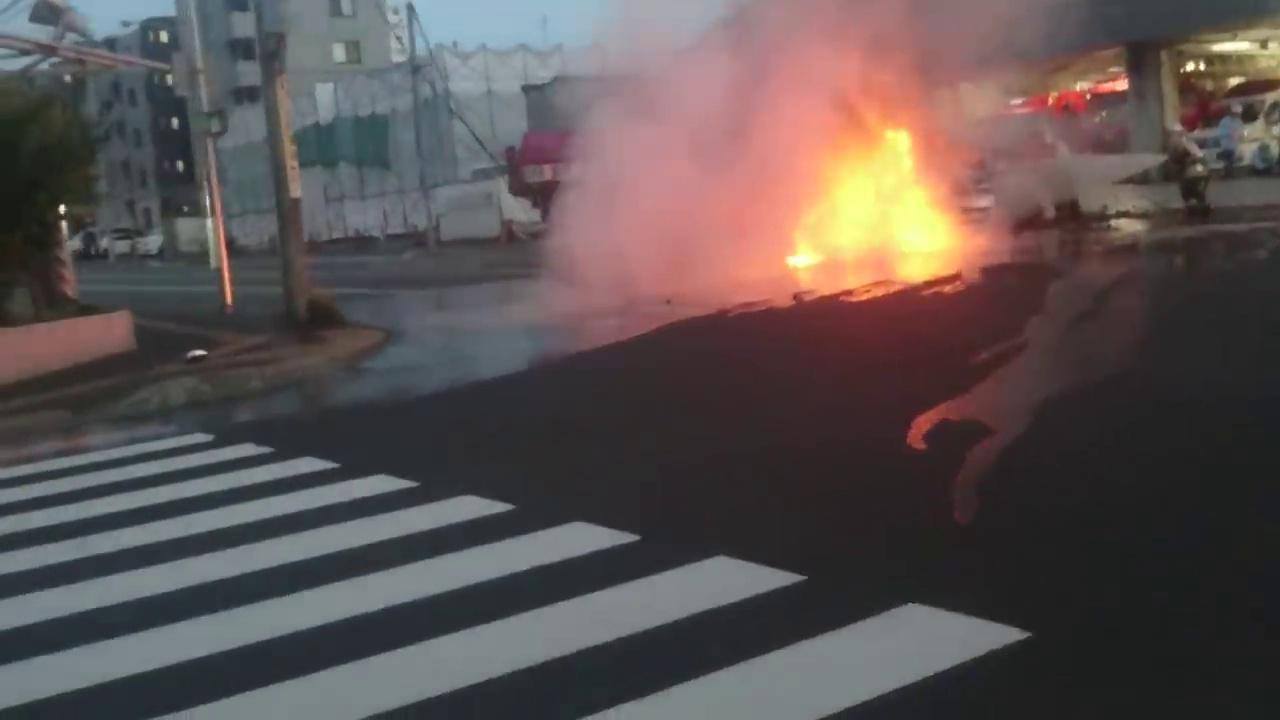Fire: (785, 119, 968, 286)
